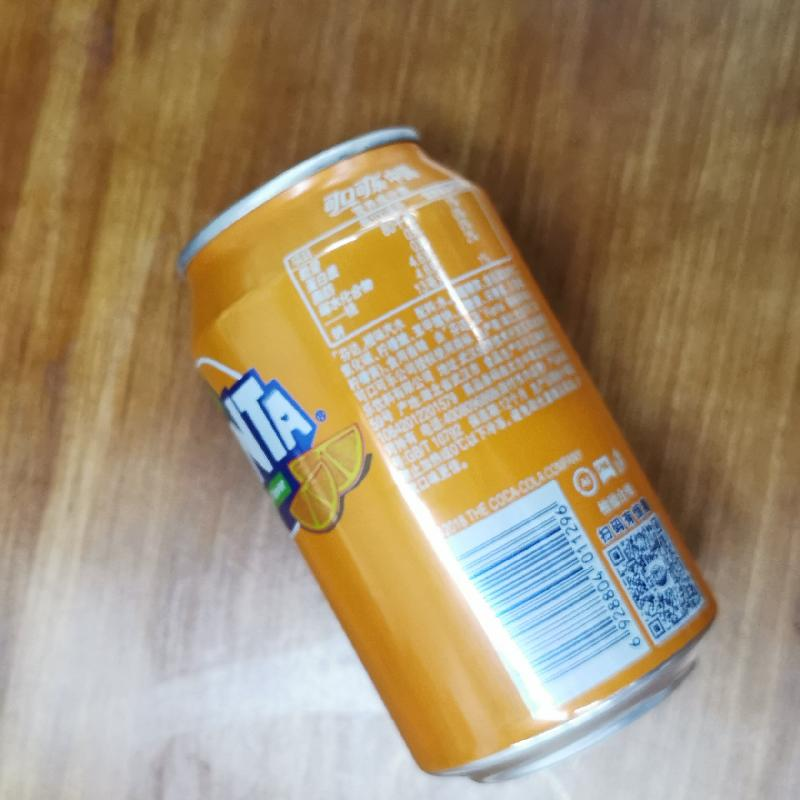cans: (172, 121, 718, 786)
